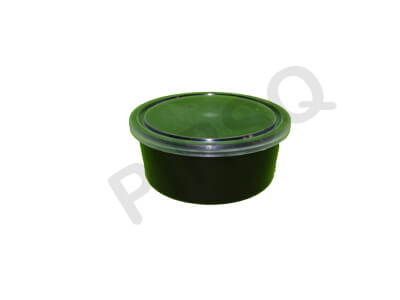PlasticBox: (126, 88, 291, 207)
